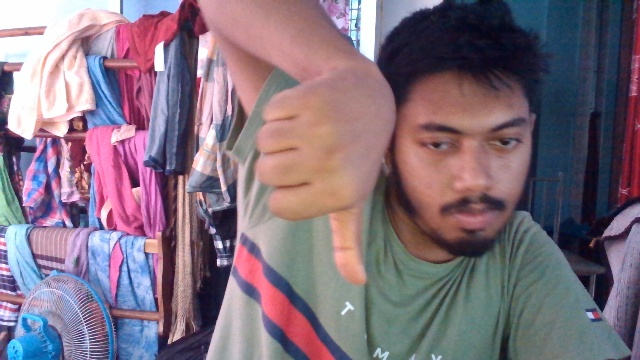no: (256, 59, 397, 290)
